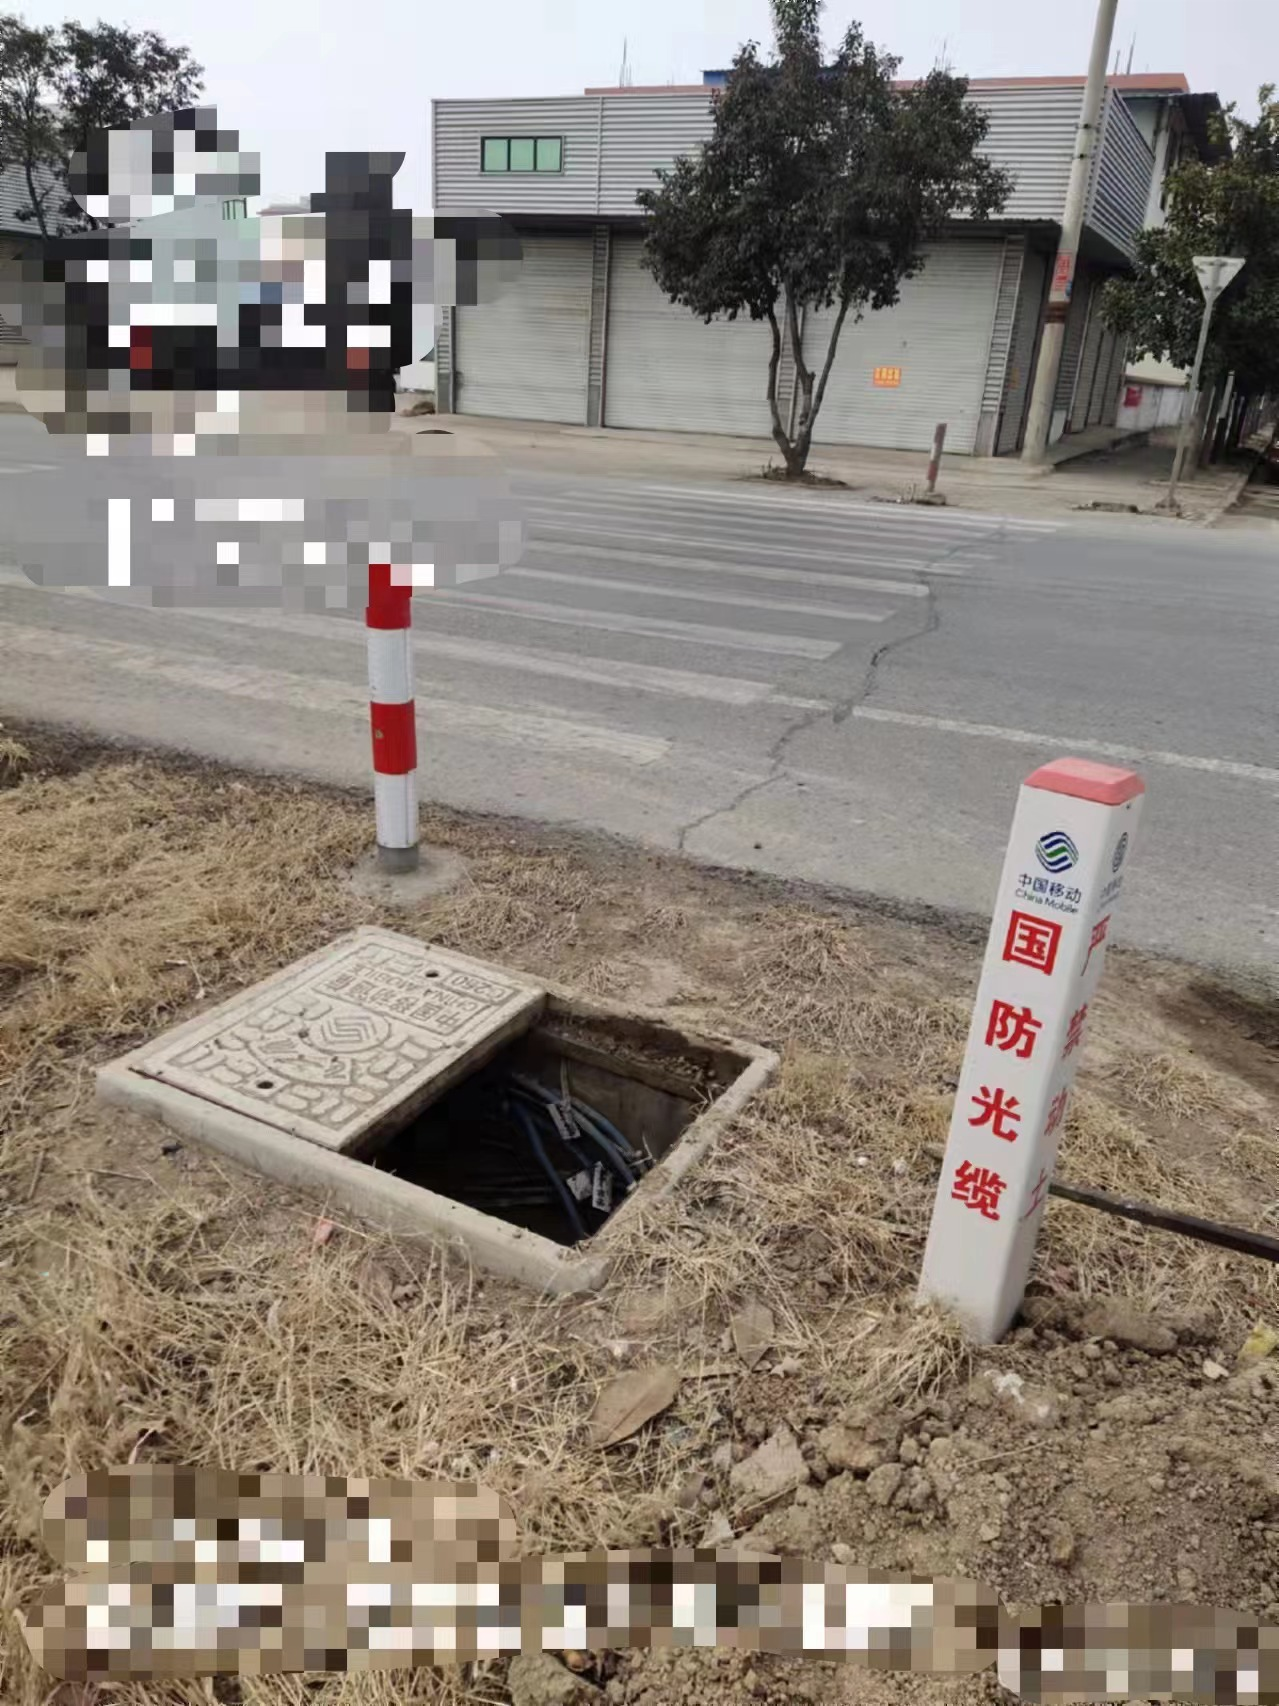well: (98, 916, 789, 1294)
